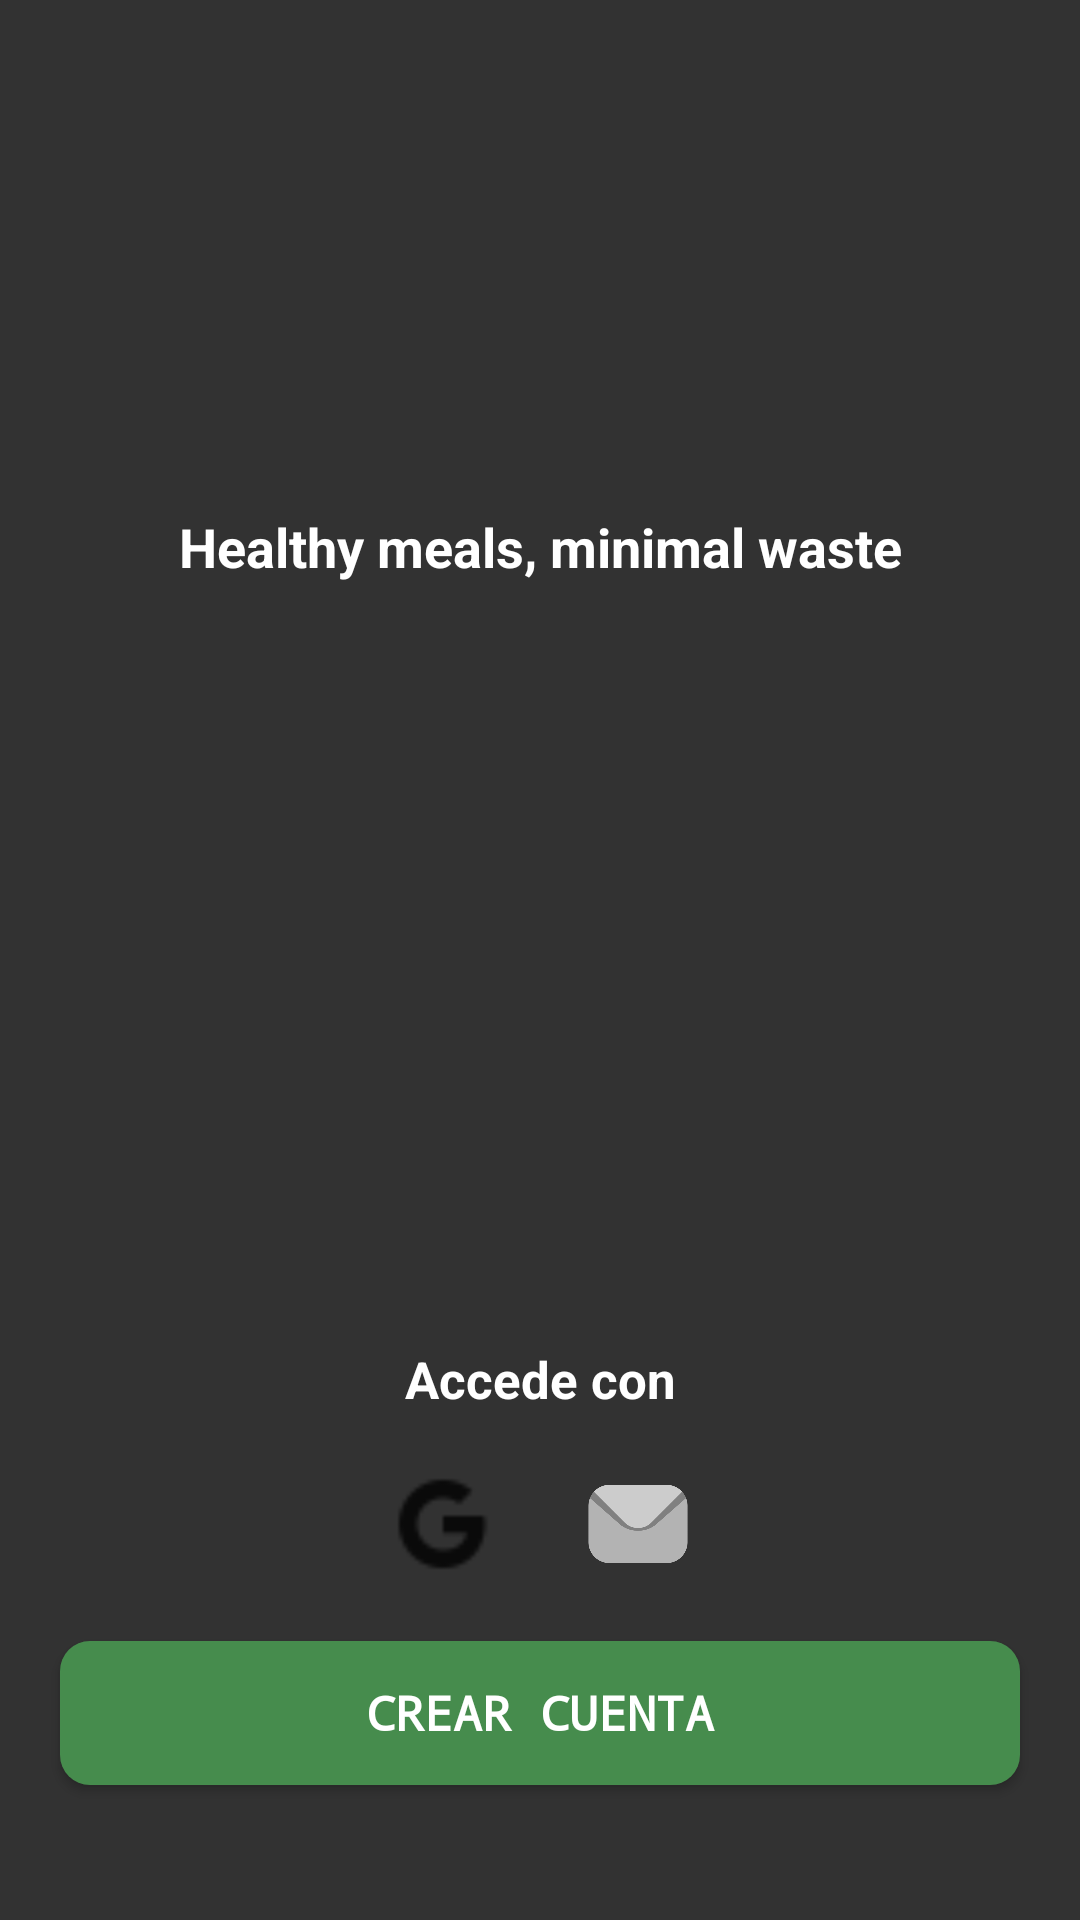

Icons on this 1080*1920 Android screen, each with its box as rect(x1, y1, x2, y2):
mail: rect(588, 1485, 688, 1563)
